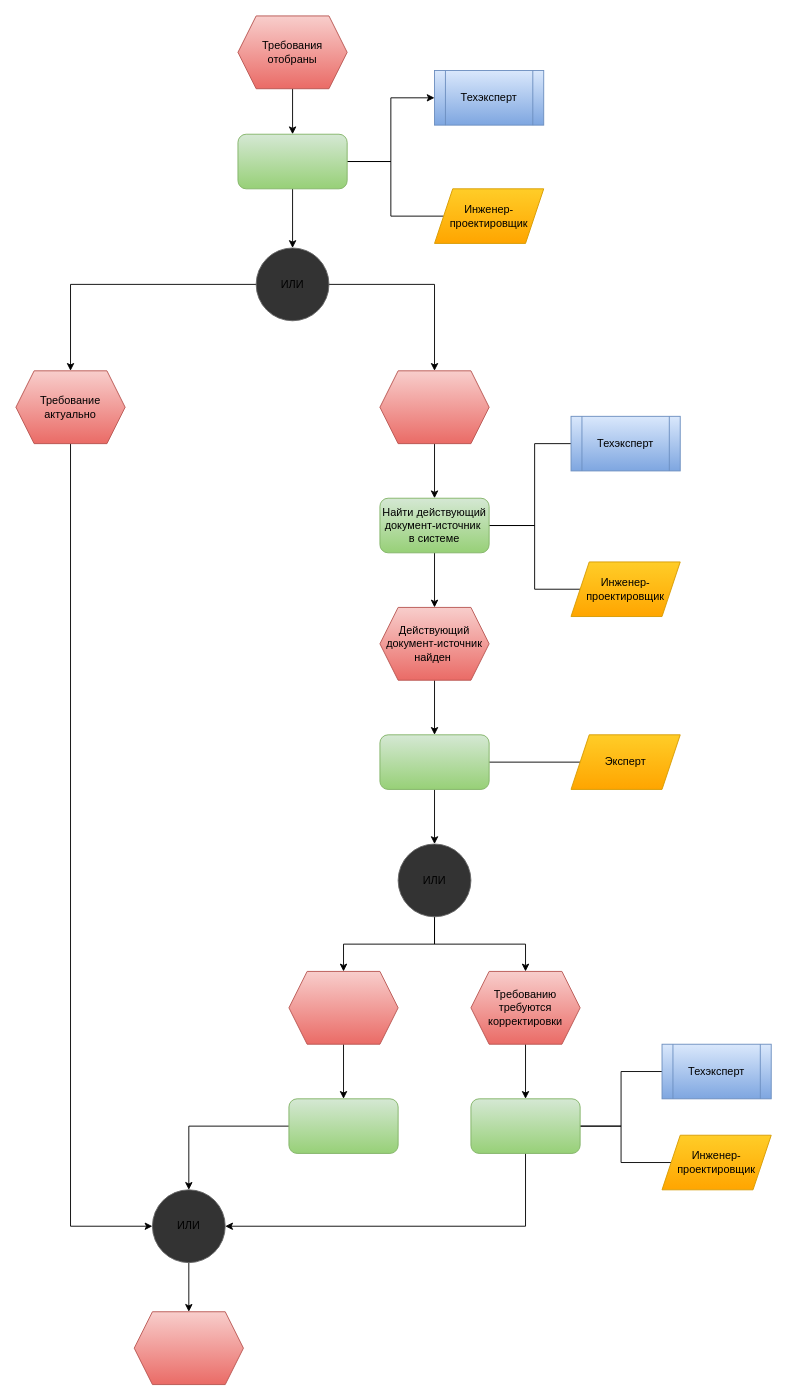
This 787x1400 diagram has some shape labels left out. Here are the shapes that lost their labels. From the top down, the box of each, then its label:
(237, 133, 347, 189): Проверить актуальность в Техэксперт
(379, 370, 489, 444): Требование неактуально
(379, 734, 489, 789): Проанализировать изменения
(288, 971, 398, 1044): Требованию не требуются корректировки
(288, 1098, 398, 1153): Принять без изменений
(470, 1098, 580, 1153): Скорректировать требования
(133, 1311, 243, 1385): Актуальные требования сформированы
